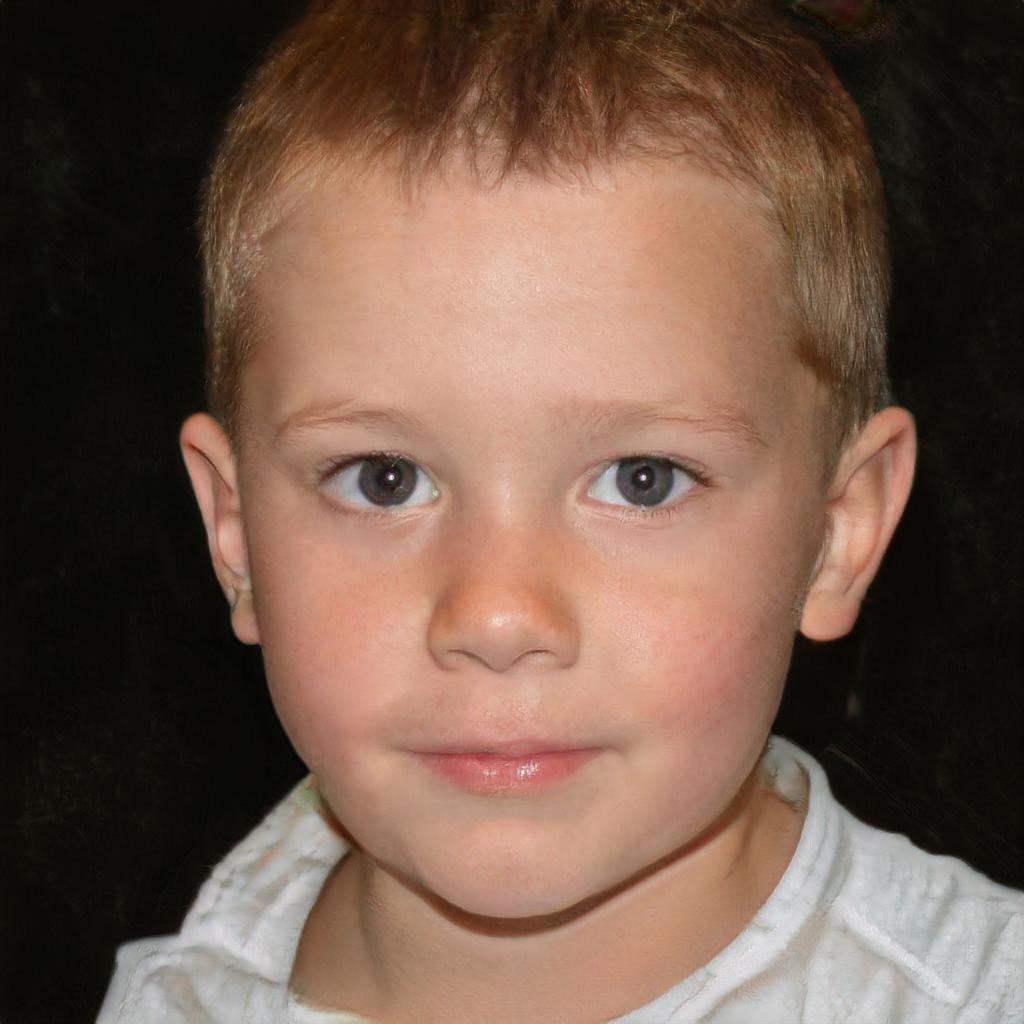face: (256, 174, 799, 917)
